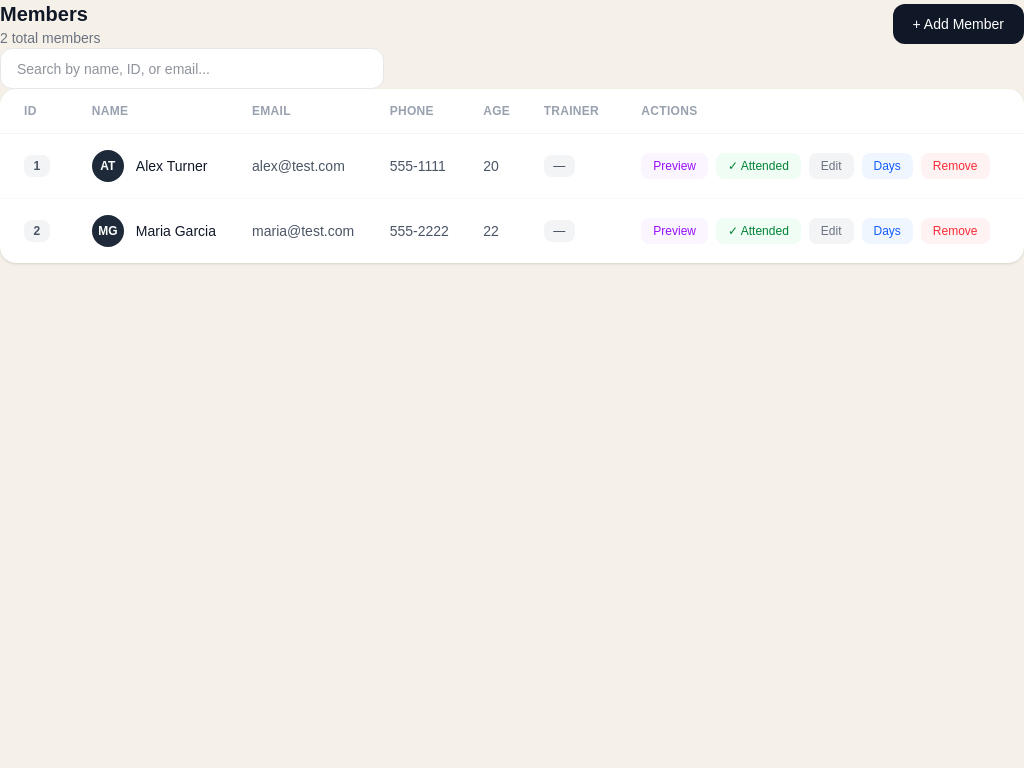
Test: Admin Members Page › shows delete confirmation on Remove click
Check: the text "Alex Turner" is shown, box [136, 156, 207, 176]
Click the button "Remove" in the row of "Turner": (955, 166) [921, 153, 990, 179]
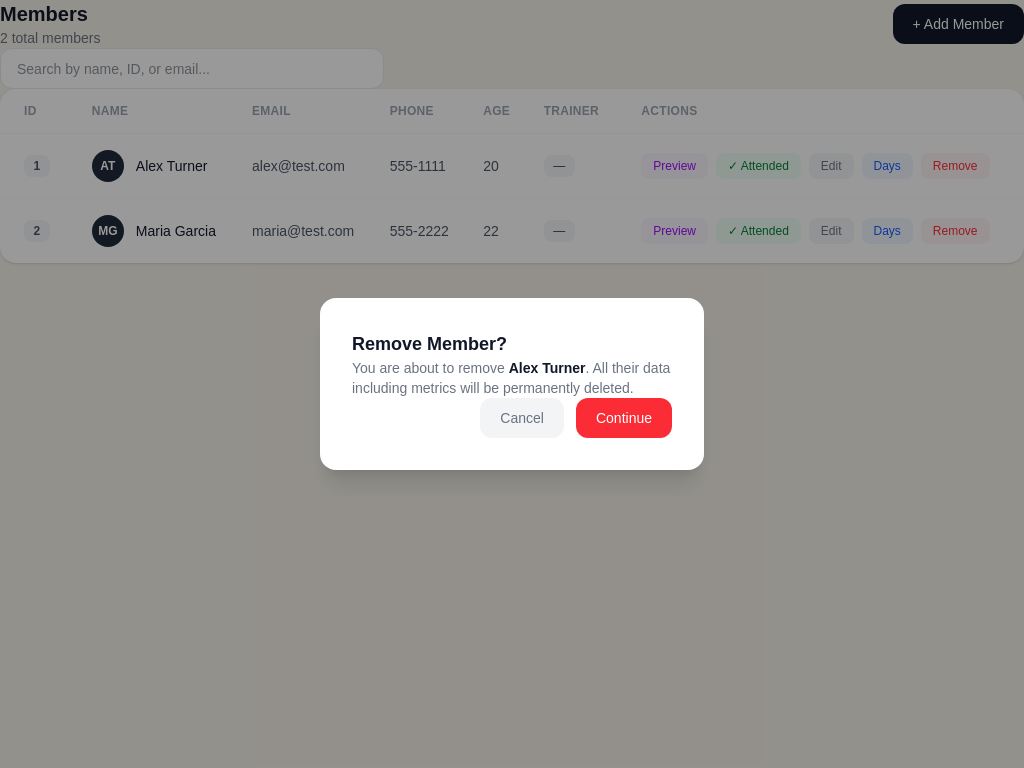
Check: the heading "Remove Member?" is shown, box [352, 334, 507, 354]
